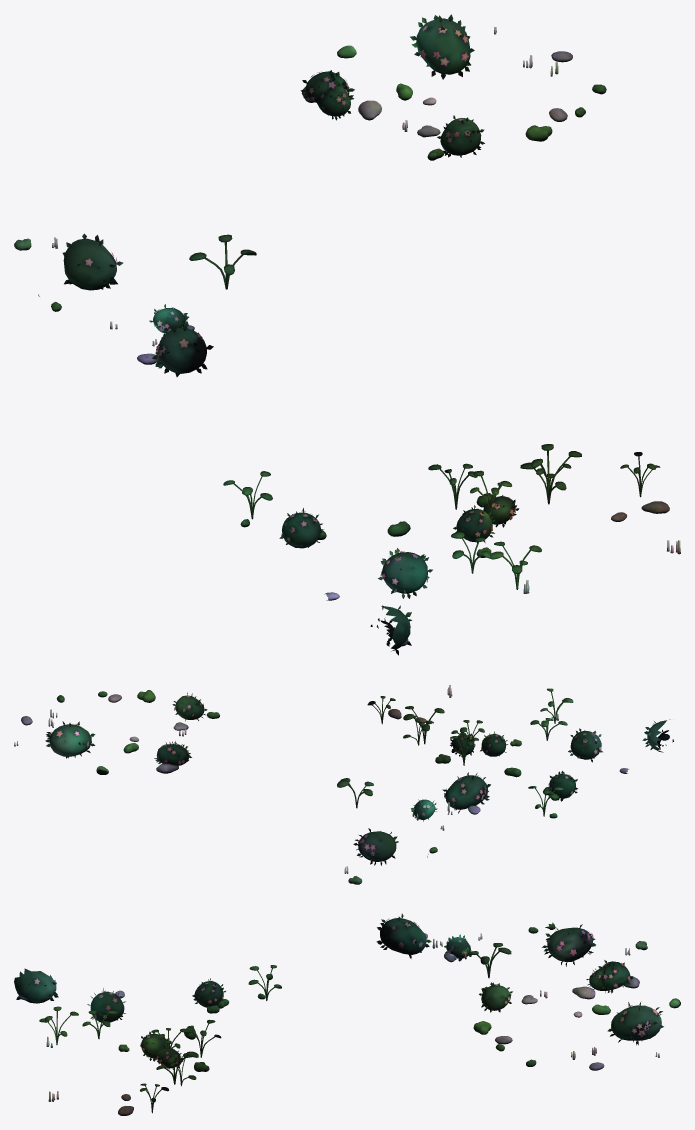
File: prp_cave_flora_b.glb
3 views of the same model, one above another, from view 1: azimuth 30°, elevation 25°; view 2: azimuth 150°, elevation 25°; view 3: azimuth 270°, elevation 25° (orthographic). The views are drawn at different scales.
Parts seen in each view (by area): view 1: INST_prp_cave_flora_b_flora; view 2: INST_prp_cave_flora_b_flora; view 3: INST_prp_cave_flora_b_flora.
Part boxes in pixels (<box>): INST_prp_cave_flora_b_flora: <box>14,14,680,655</box>; INST_prp_cave_flora_b_flora: <box>14,685,673,884</box>; INST_prp_cave_flora_b_flora: <box>14,913,680,1115</box>.
Bounding box in the file's own units: 24.06 × 9.11 × 32.73.
